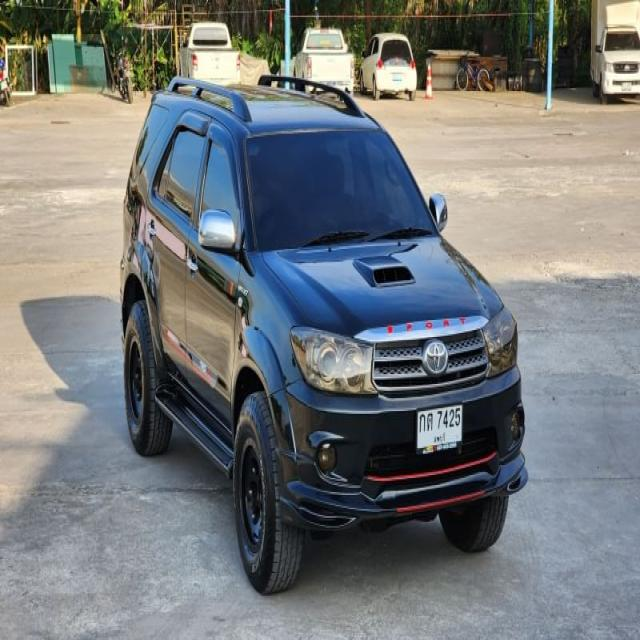license_plate: (414, 400, 466, 460)
